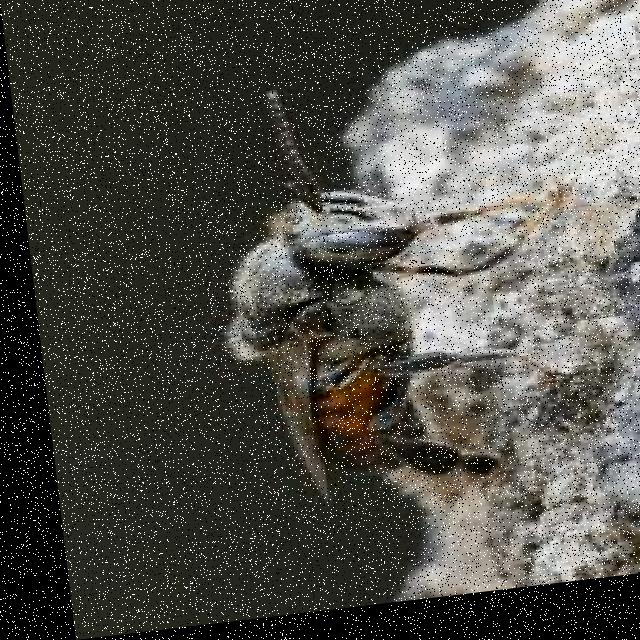Meliponula: (158, 56, 571, 522)
